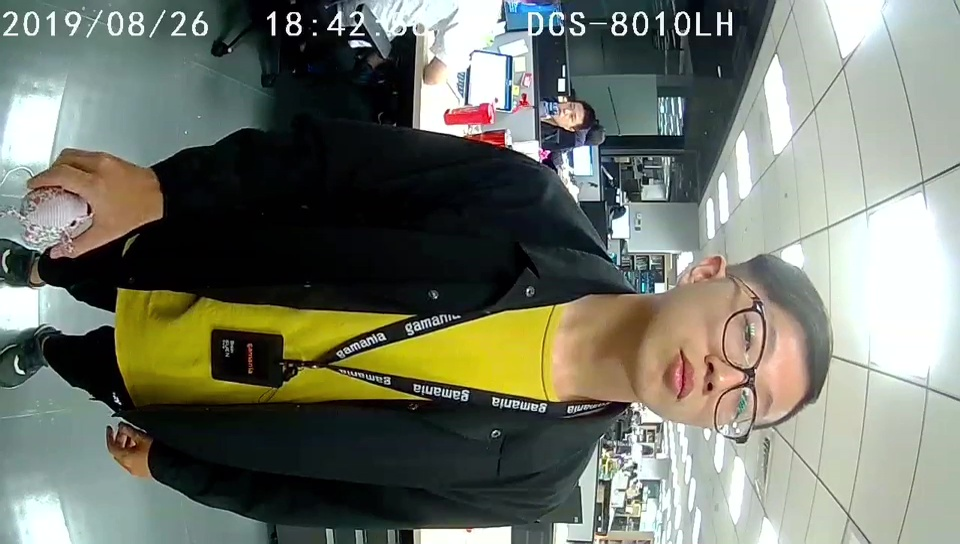pig: (19, 186, 94, 256)
